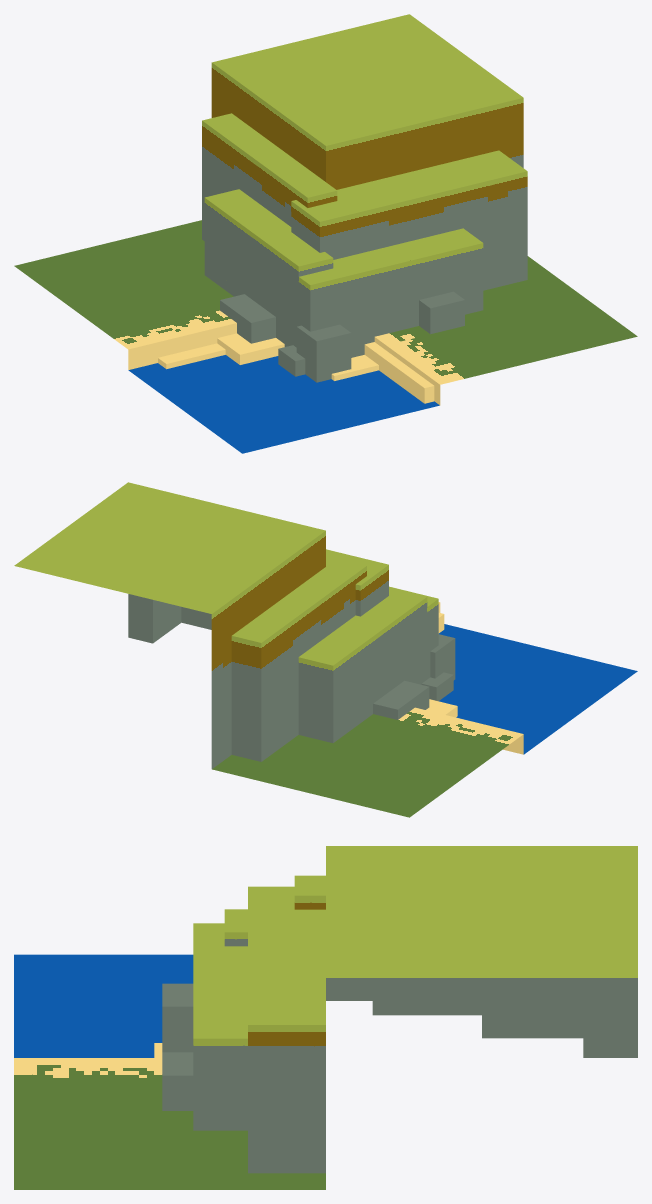
The model's file is LMLW(1).glb.
3 views of the same model, one above another, from view 1: azimuth 30°, elevation 25°; view 2: azimuth 150°, elevation 25°; view 3: azimuth 270°, elevation 25° (orthographic). The views are drawn at different scales.
Visible parts, largest first — view 1: model_0.053; view 2: model_0.053; view 3: model_0.053.
Boxes of the visible parts, left/top/right/bottom form: model_0.053: left=14, top=14, right=637, bottom=453; model_0.053: left=14, top=482, right=637, bottom=817; model_0.053: left=14, top=846, right=637, bottom=1189.
Size of the model in its own units: 80 by 34 by 80.
1 material, 1 textured.
